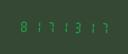eight: (17, 19, 29, 33)
one: (56, 19, 68, 34), (30, 19, 42, 33), (82, 20, 94, 34)
seven: (43, 19, 55, 33), (95, 20, 107, 34)
three: (69, 20, 81, 34)
